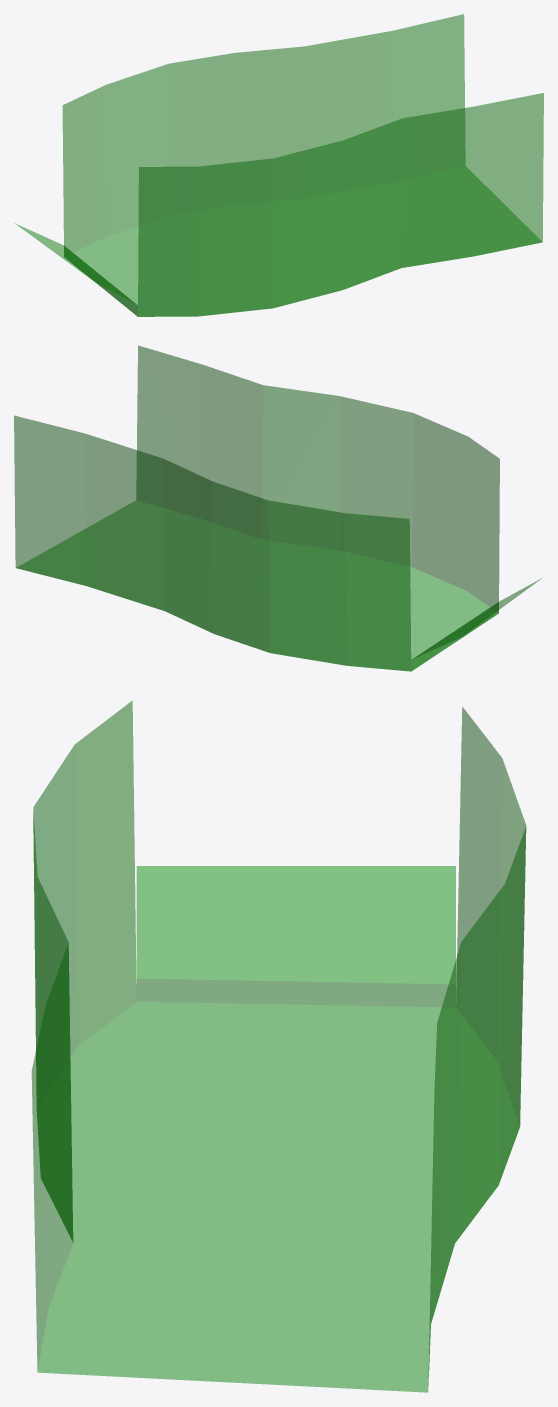
Rendered from _cam.obj.
The picture shows the model from 3 angles, top to bottom: view 1: azimuth 30°, elevation 25°; view 2: azimuth 150°, elevation 25°; view 3: azimuth 270°, elevation 25°; orthographic projection. The views are drawn at different scales.
Size of the model in its own units: 133 by 43.12 by 64.15.
